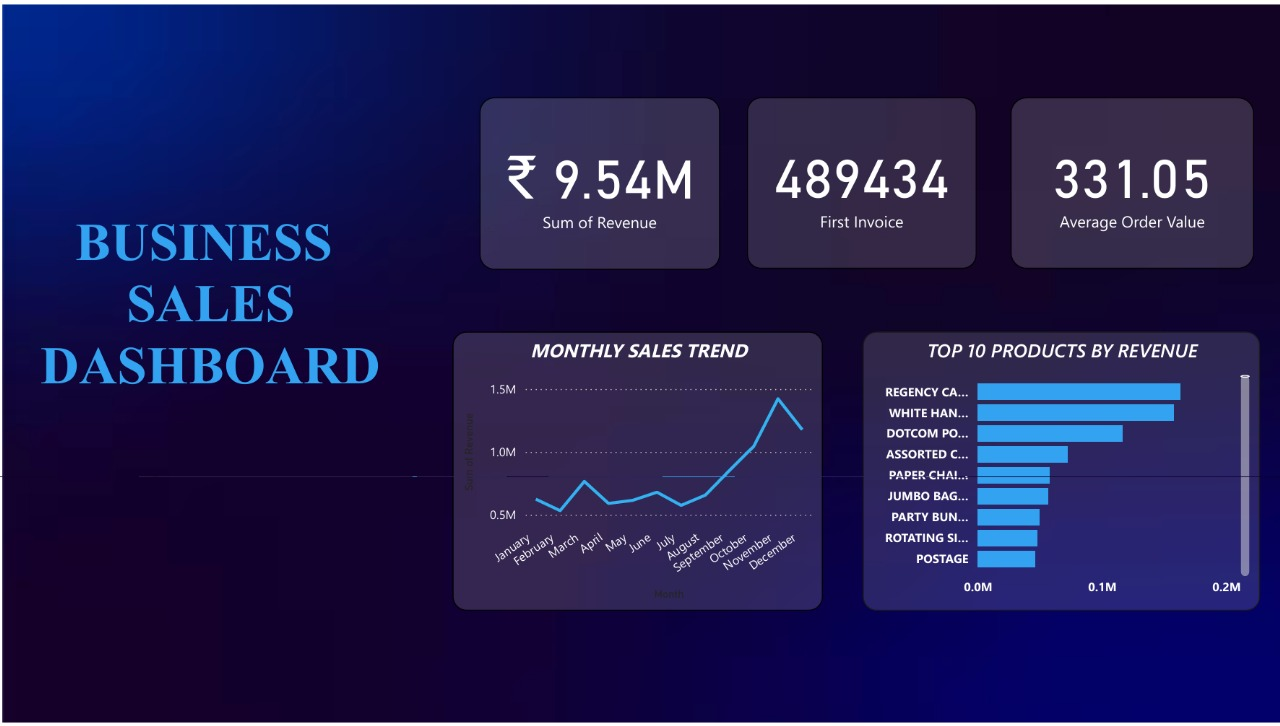

This screenshot's page, from the dashboard's own definition file:
{"tool":"powerbi","page":{"name":"Page 1","canvas":[1280,720],"ordinal":0},"visuals":[{"type":"card","title":"TOTAL REVENUE","fields":{"Values":["Sum(dataset_cleaned.Revenue)"]},"box":[477.5,93.3,241.5,172.9],"z":0},{"type":"card","title":"TOTAL ORDERS","fields":{"Values":["Min(dataset_cleaned.Invoice)"]},"box":[746.5,93.3,229.2,171.5],"z":1000},{"type":"card","title":"AVERAGE ORDER VALUE","fields":{"Values":["dataset_cleaned.Average Order Value"]},"box":[1010,93.3,244.3,171.5],"z":2000},{"type":"lineChart","title":"MONTHLY SALES TREND","fields":{"Category":["dataset_cleaned.InvoiceDate.Variation.Date Hierarchy.Month"],"Y":["Sum(dataset_cleaned.Revenue)"]},"box":[451.5,328,370.5,279.9],"z":3000},{"type":"barChart","title":"TOP 10 PRODUCTS BY REVENUE ","fields":{"Y":["Sum(dataset_cleaned.Revenue)"],"Category":["dataset_cleaned.Description"]},"box":[861.8,328,397.9,279.9],"z":4000},{"type":"textbox","box":[26.1,201.7,365,469.3],"z":4001}]}

Visuals, with their boxes in screenshot pixels (x1, y1, x2, y2), scaled from the page's 1280x720 canvas onto the 1280x726 screenshot:
"TOTAL REVENUE" card: left=478, top=94, right=719, bottom=268
"TOTAL ORDERS" card: left=746, top=94, right=976, bottom=267
"AVERAGE ORDER VALUE" card: left=1010, top=94, right=1254, bottom=267
"MONTHLY SALES TREND" lineChart: left=452, top=331, right=822, bottom=613
"TOP 10 PRODUCTS BY REVENUE " barChart: left=862, top=331, right=1260, bottom=613
textbox: left=26, top=203, right=391, bottom=677
